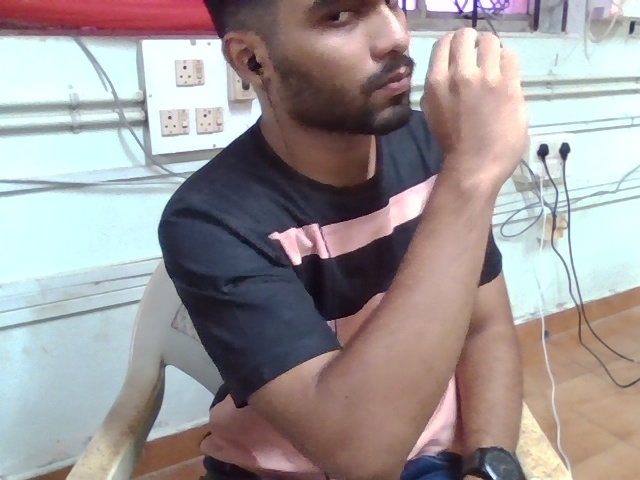Drink: (367, 22, 570, 190)
